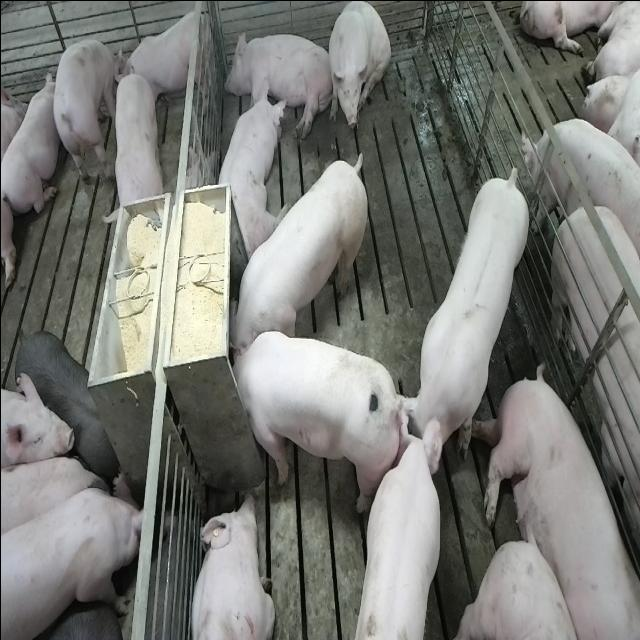Feeding: (220, 329, 397, 513), (228, 143, 372, 359)
Lateral_lying: (472, 363, 637, 640), (223, 28, 333, 140)
Sitting: (325, 2, 390, 136)
Standing: (394, 156, 530, 474), (548, 196, 640, 640), (2, 477, 142, 640), (350, 429, 440, 640), (10, 328, 120, 485), (523, 111, 640, 251), (104, 58, 164, 240), (50, 33, 120, 182)
Sternal_lying: (187, 489, 275, 640), (212, 82, 282, 260), (120, 4, 213, 106), (1, 70, 61, 214)
